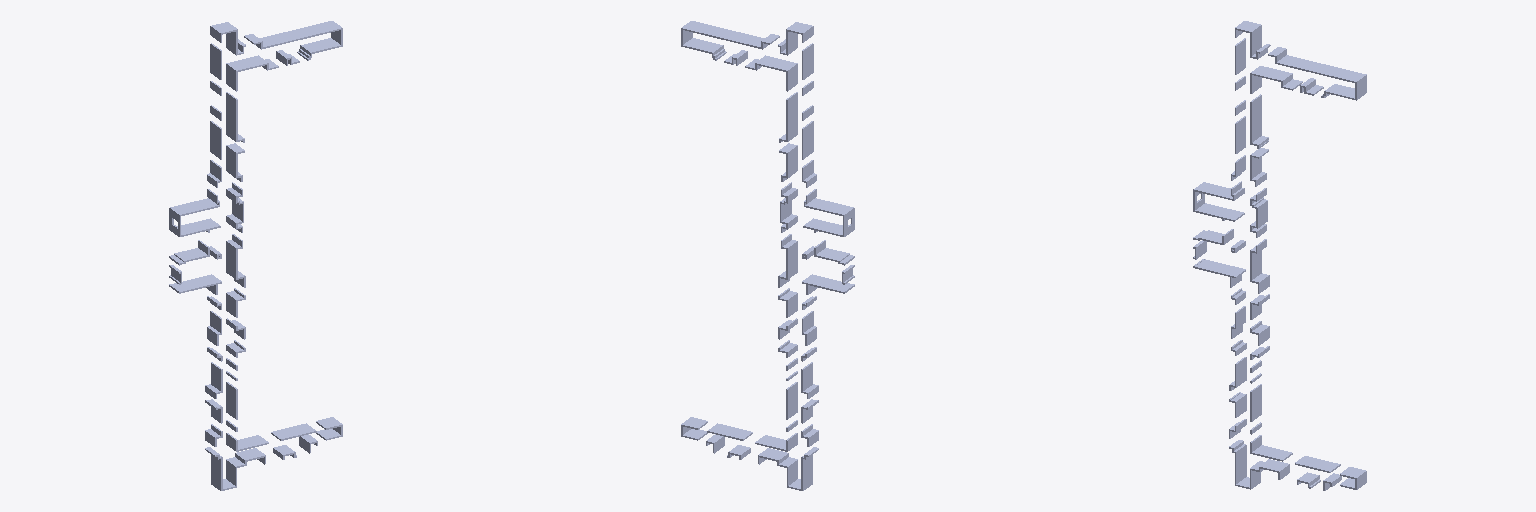
URDF robot description (UT_Hallway_fin):
<?xml version="1.0" encoding="utf-8"?>
<!-- This URDF was automatically created by SolidWorks to URDF Exporter! Originally created by [author] ([email redacted]) 
     Commit Version: 1.5.1-0-g916b5db  Build Version: 1.5.7152.31018
     For more information, please see http://wiki.ros.org/sw_urdf_exporter -->
<robot
  name="UT_Hallway_fin">
  <link
    name="UT_Hallway_fin">
    <inertial>
      <origin
        xyz="-3.8601 -1.15 -4.0024"
        rpy="0 0 0" />
      <mass
        value="19841" />
      <inertia
        ixx="5721000"
        ixy="-5.71142125512382E-11"
        ixz="847840"
        iyy="6081500"
        iyz="-3.47137892344943E-10"
        izz="378020" />
    </inertial>
    <visual>
      <origin
        xyz="0 0 0"
        rpy="1.5707963267949 0 0" />
      <geometry>
        <mesh
          filename="package://UT_Hallway_fin/meshes/UT_Hallway_fin.STL" />
      </geometry>
      <material
        name="">
        <color
          rgba="0.79216 0.81961 0.93333 1" />
        <texture
          filename="package://UT_Hallway_fin/textures/" />
      </material>
    </visual>
    <collision>
      <origin
        xyz="0 0 0"
        rpy="1.5707963267949 0 0" />
      <geometry>
        <mesh
          filename="package://UT_Hallway_fin/meshes/UT_Hallway_fin.STL" />
      </geometry>
    </collision>
  </link>
</robot>

--- Render facts (derived) ---
Views: 3 orthographic renders of the robot side by side, from view 1: azimuth 30°, elevation 25°; view 2: azimuth 150°, elevation 25°; view 3: azimuth 330°, elevation 25°.
Robot: UT_Hallway_fin — 1 links, 0 joints (none); root link UT_Hallway_fin; default pose: all joints at 0.
Visible links, largest first — view 1: UT_Hallway_fin; view 2: UT_Hallway_fin; view 3: UT_Hallway_fin.
Link boxes in pixels (<box>): UT_Hallway_fin: <box>169,21,342,490</box>; UT_Hallway_fin: <box>681,21,854,490</box>; UT_Hallway_fin: <box>1193,21,1366,490</box>.
Bounding box of the posed robot: 21.1 × 2.3 × 56.45 m (x, y, z).
1 mesh visuals loaded from 1 distinct referenced files (1 binary STL).